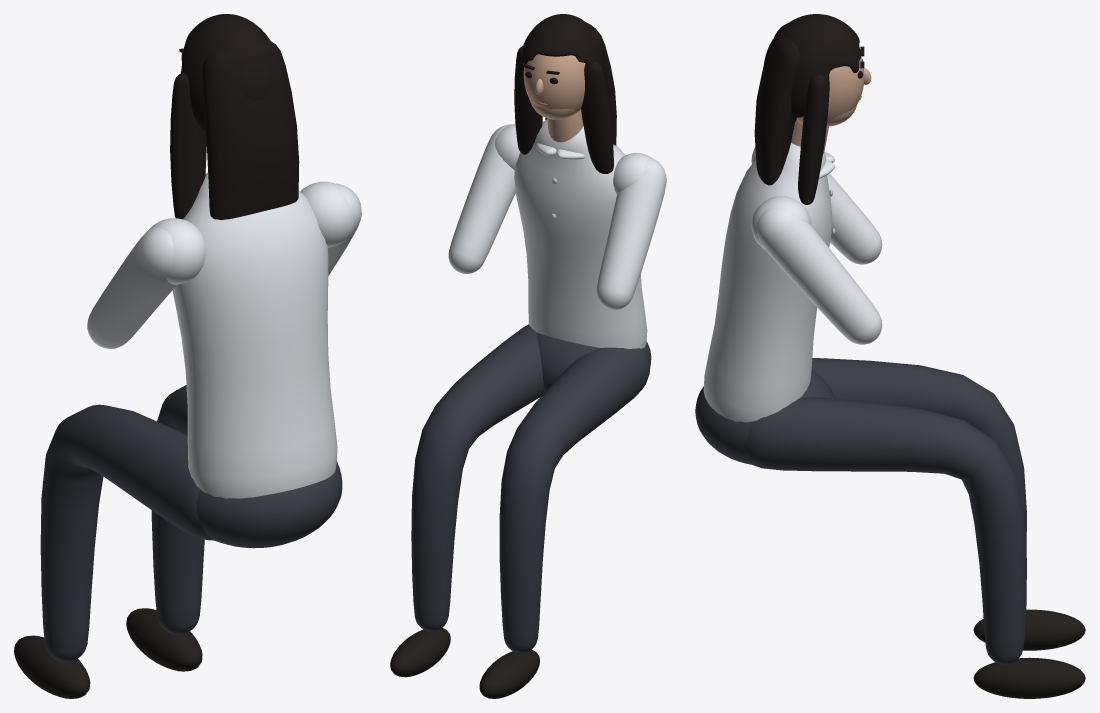
File: nguoi_ngoi_nu.glb
3 views of the same model, side by side, from view 1: azimuth 30°, elevation 25°; view 2: azimuth 150°, elevation 25°; view 3: azimuth 270°, elevation 25° (orthographic). The views are drawn at different scales.
Parts seen in each view (by area): view 1: nguoi_ngoi_nu; view 2: nguoi_ngoi_nu; view 3: nguoi_ngoi_nu.
Part boxes in pixels (x1,y1,x2,y2): nguoi_ngoi_nu: (14, 14, 361, 698); nguoi_ngoi_nu: (390, 14, 666, 698); nguoi_ngoi_nu: (695, 14, 1085, 698).
Size of the model in its own units: 0.4664 by 1.46 by 0.7869.
